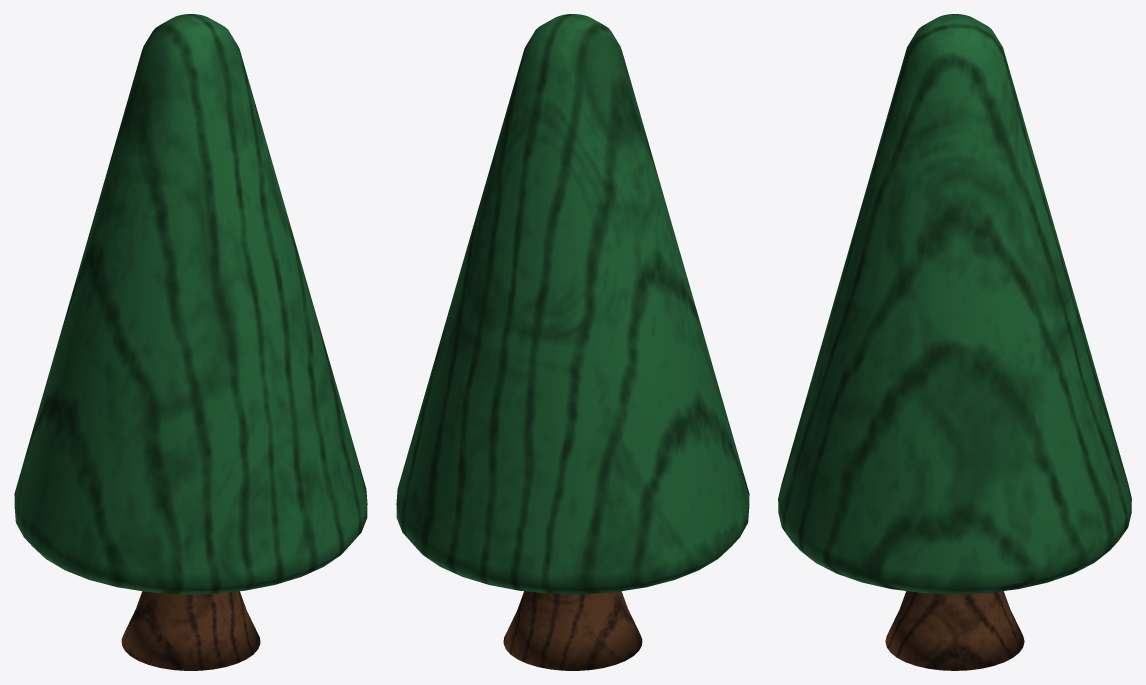
Rendered from WoodTree1.glb.
3 views of the same model, side by side, from view 1: azimuth 30°, elevation 25°; view 2: azimuth 150°, elevation 25°; view 3: azimuth 270°, elevation 25° (orthographic).
Parts seen in each view (by area): view 1: WoodTree1, WoodTree1_bark; view 2: WoodTree1, WoodTree1_bark; view 3: WoodTree1, WoodTree1_bark.
Boxes of the visible parts, x1,y1,x2,y2 form: WoodTree1: [14, 14, 367, 594]; WoodTree1_bark: [121, 591, 260, 670]; WoodTree1: [396, 14, 749, 594]; WoodTree1_bark: [503, 591, 642, 670]; WoodTree1: [778, 14, 1131, 594]; WoodTree1_bark: [885, 591, 1024, 670].
Bounding box in the file's own units: 3.75 × 7.29 × 3.75.
Materials: 2 (2 with a texture image).
